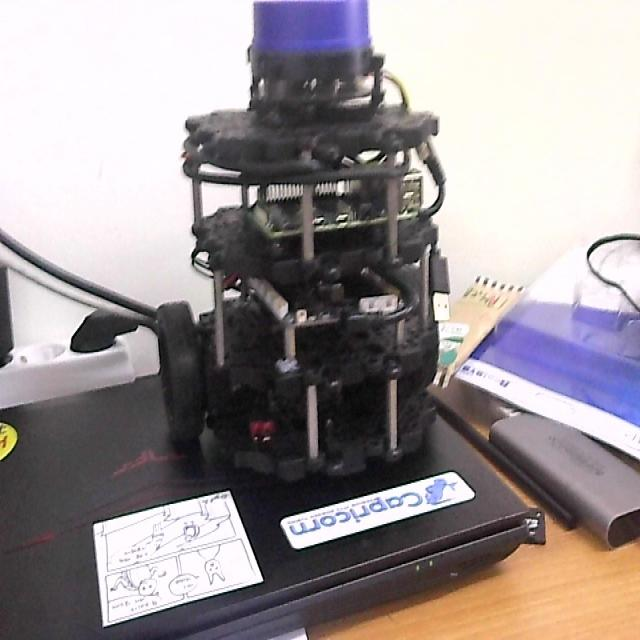turtle: (156, 2, 453, 484)
